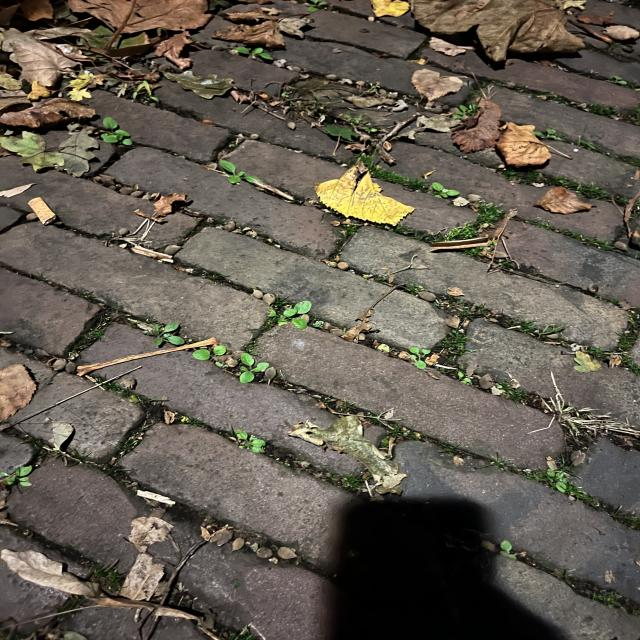leaves: (0, 0, 185, 136), (370, 0, 632, 64), (401, 66, 546, 166), (11, 534, 178, 615), (314, 161, 419, 236), (4, 359, 44, 416)
pavement: (41, 478, 640, 640), (282, 173, 640, 366), (0, 157, 308, 366)
weedling: (116, 292, 639, 514)
